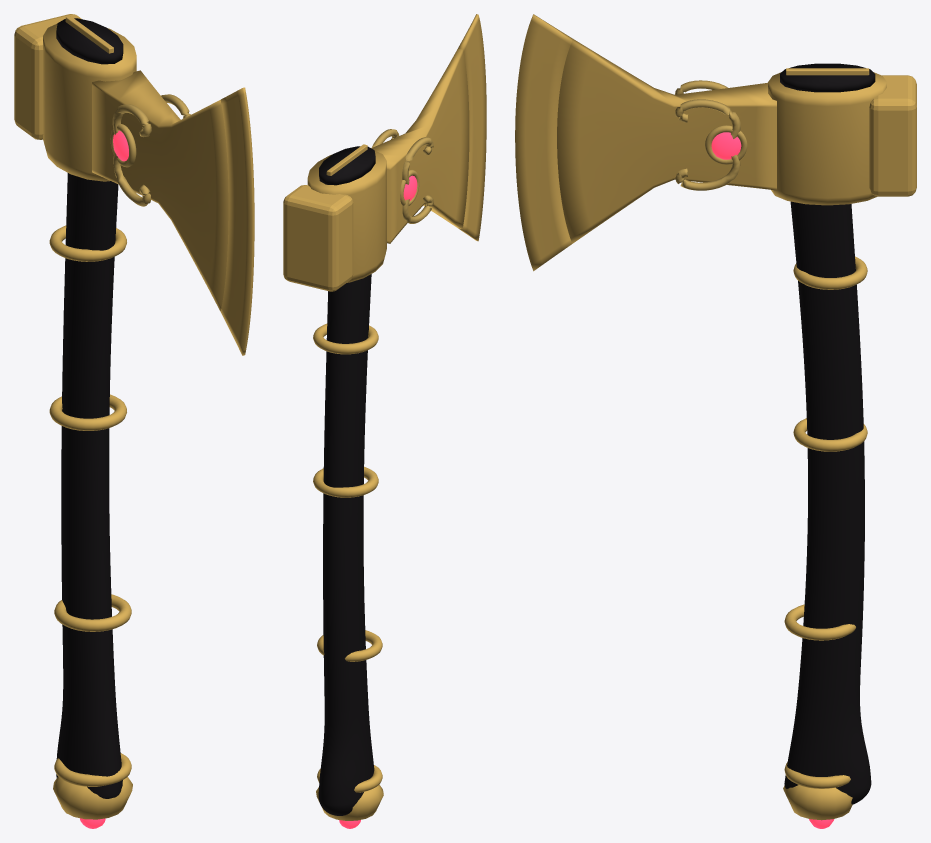
The model's file is wc-gold-axe.glb.
The picture shows the model from 3 angles, left to right: view 1: azimuth 30°, elevation 25°; view 2: azimuth 150°, elevation 25°; view 3: azimuth 270°, elevation 25°; orthographic projection. The views are drawn at different scales.
Visible parts, largest first — view 1: Body0__BlackLacquer__18_16_18; view 2: Body0__BlackLacquer__18_16_18; view 3: Body0__BlackLacquer__18_16_18.
Boxes of the visible parts, x1,y1,x2,y2 form: Body0__BlackLacquer__18_16_18: (14,14,254,828); Body0__BlackLacquer__18_16_18: (283,14,486,828); Body0__BlackLacquer__18_16_18: (515,14,916,828).
Bounding box in the file's own units: 0.1724 × 2 × 0.8955.
